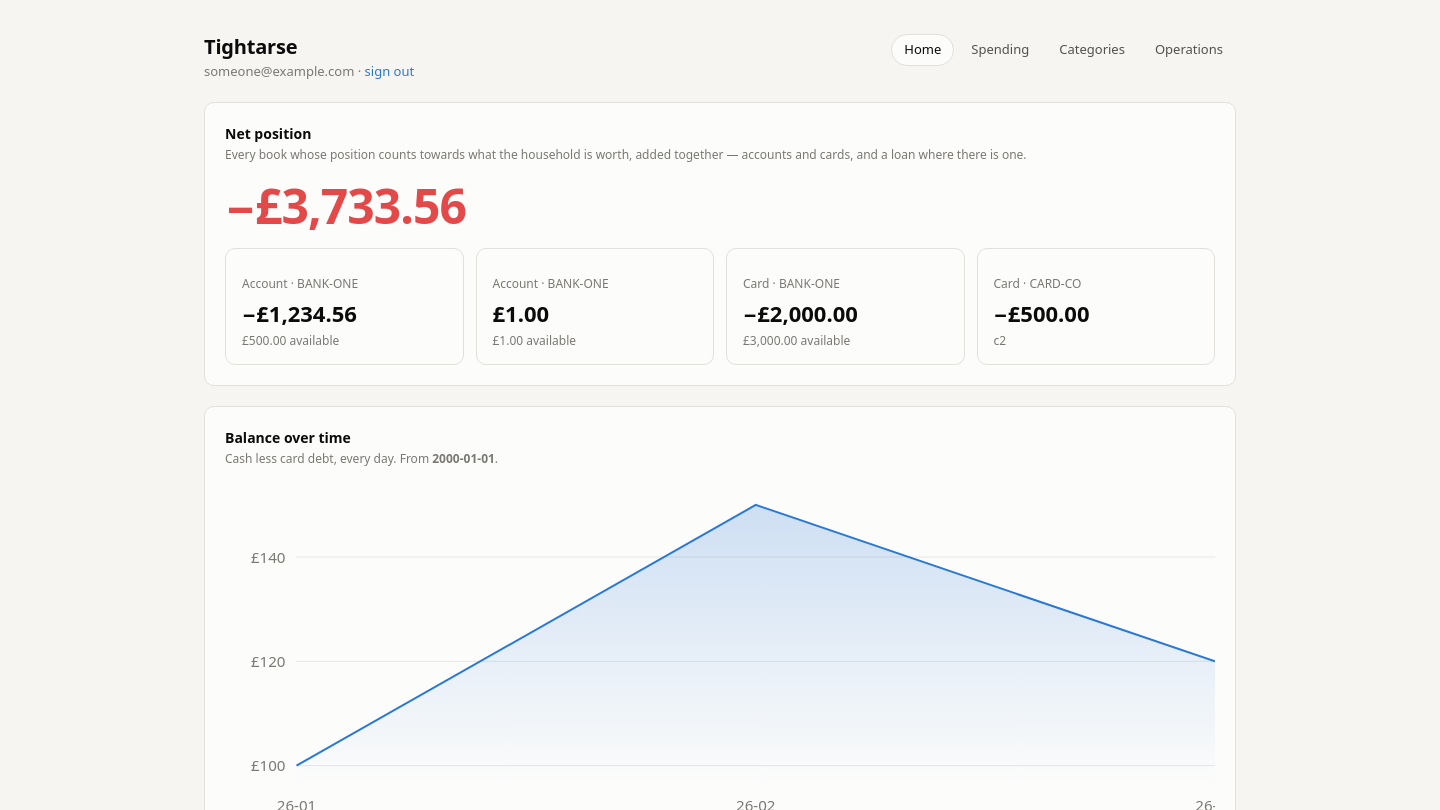
Test: moving between the pages › gets from one to another without a typed address
Expected: the heading "Net position" is shown, [225,124,311,142]
Click the link "Spending" at (1000, 49), box [971,40,1029,58]
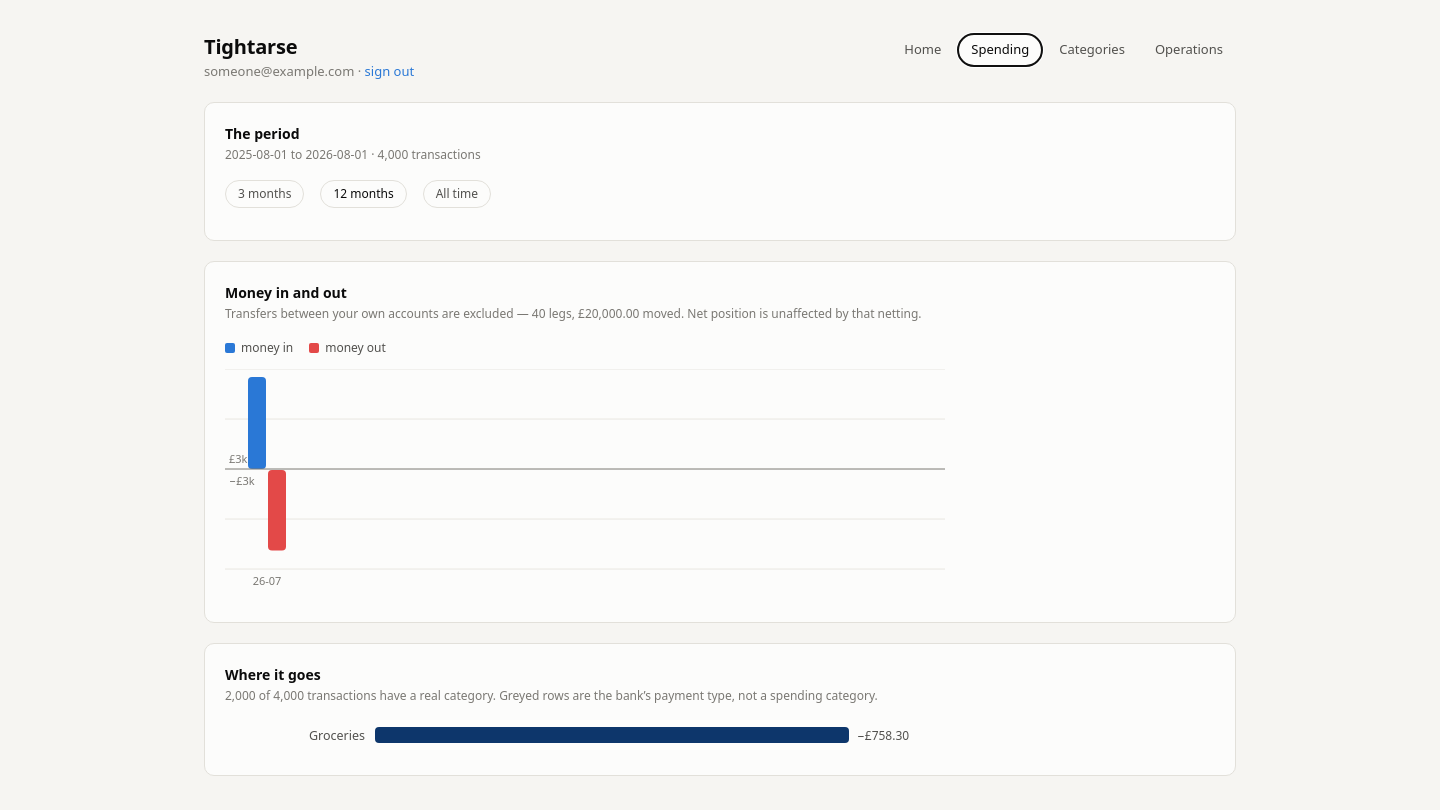
Expected: the heading "Where it goes" is shown, [225,665,321,684]
